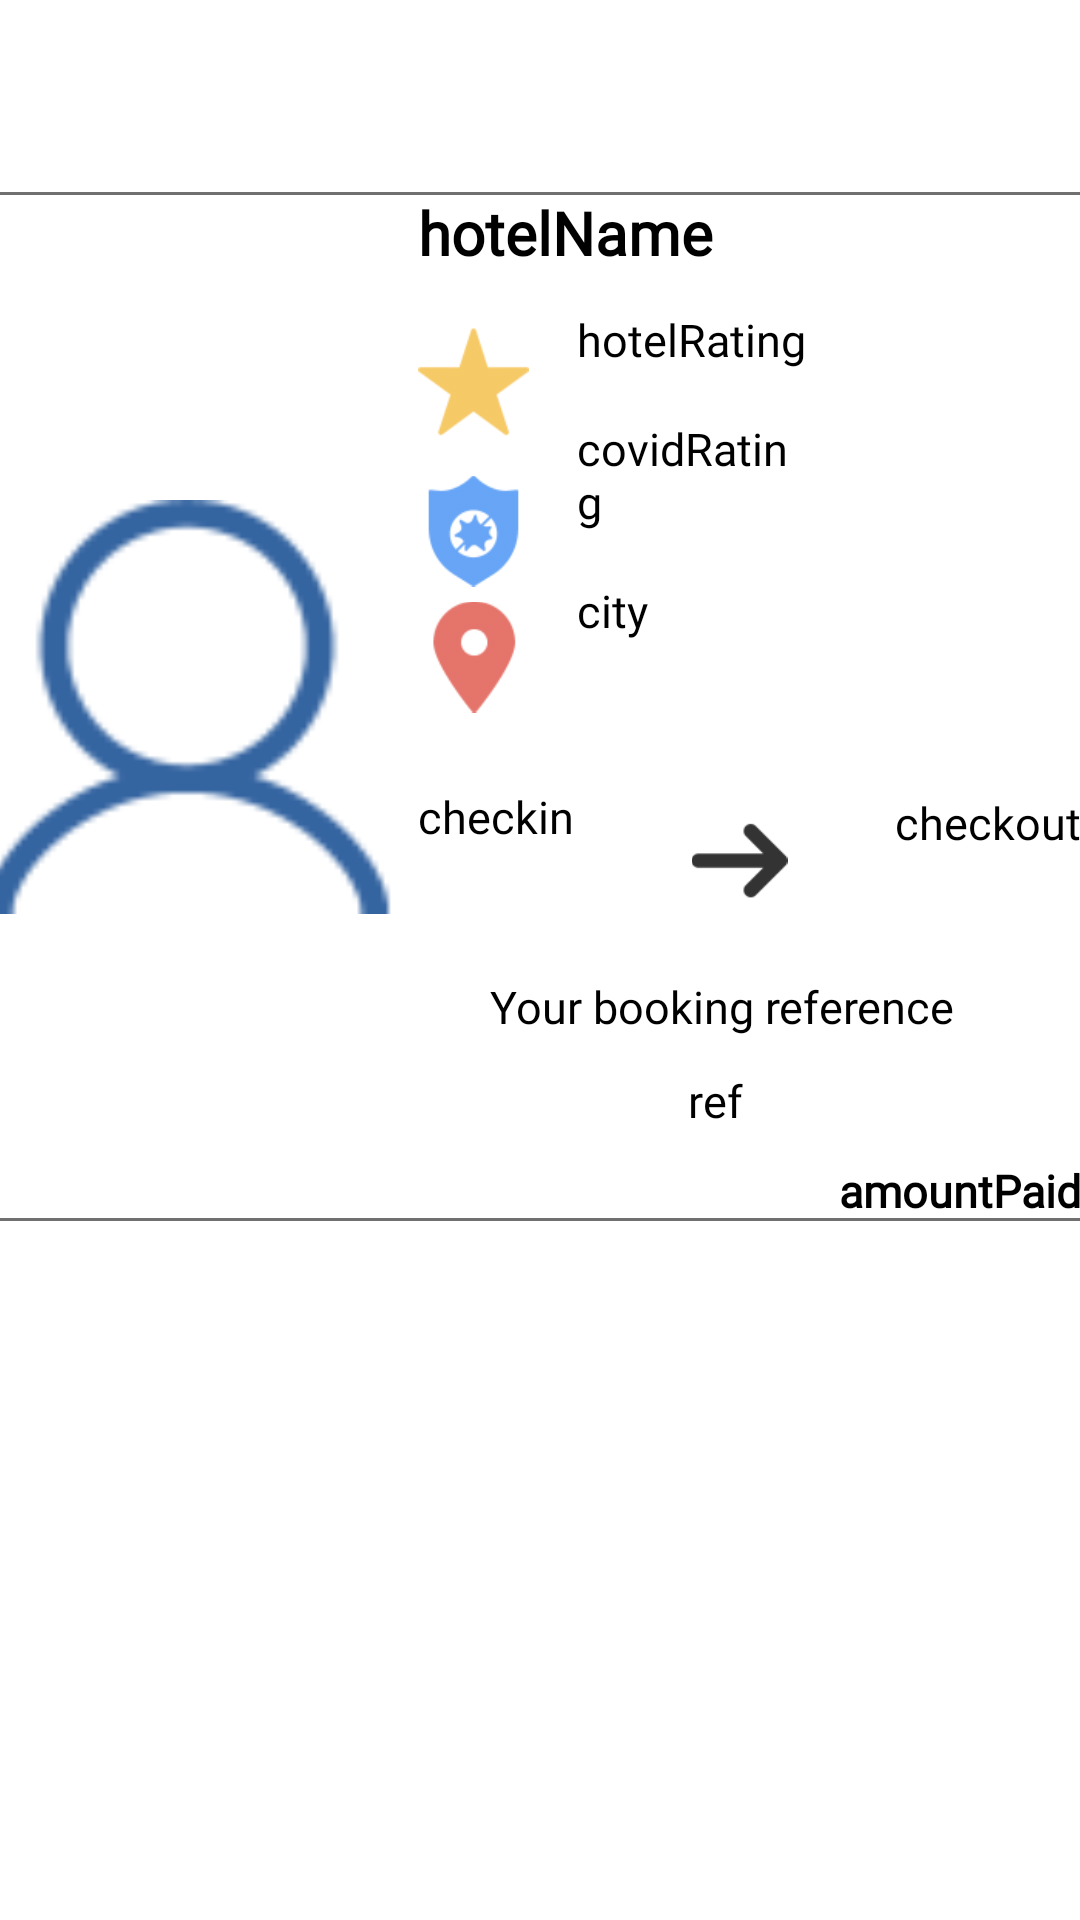

Icons on this 1080w x 1920h Android screen, each with its box as detection(x1, y1, x2, y2):
arrow: detection(692, 823, 788, 898)
location: detection(433, 602, 516, 713)
shield: detection(428, 476, 519, 587)
star: detection(418, 328, 529, 435)
